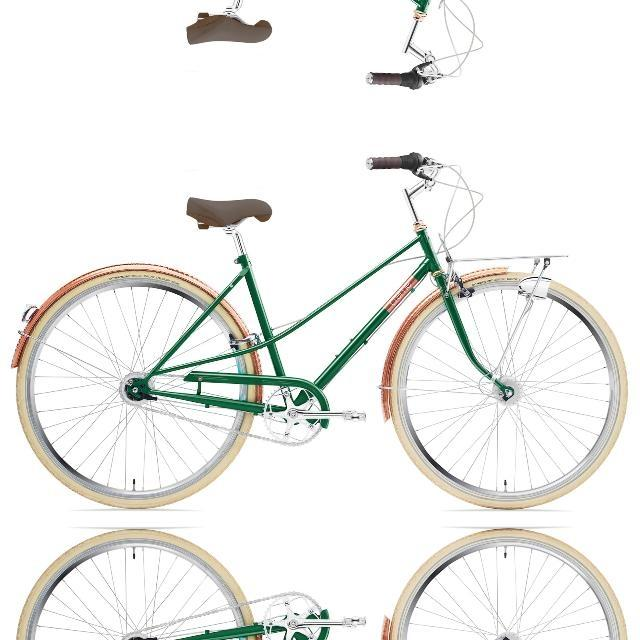obstacle: (8, 151, 638, 515), (8, 523, 638, 640), (8, 0, 638, 91)
